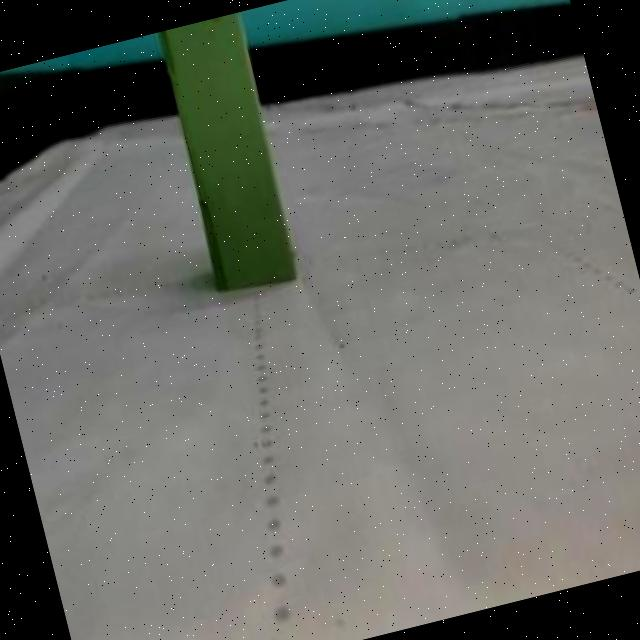greenbox: (151, 10, 307, 297)
